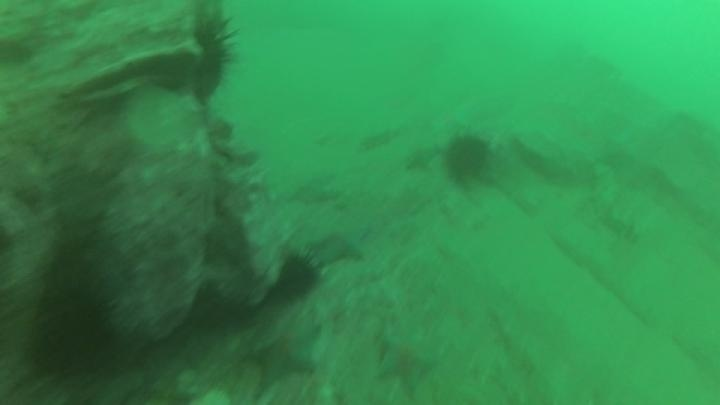echinus: (26, 283, 119, 381), (181, 14, 242, 106), (440, 132, 493, 186), (275, 250, 324, 302)
holothurian: (357, 123, 404, 153)
starfish: (248, 312, 326, 389), (374, 325, 440, 397), (305, 217, 374, 268), (402, 141, 442, 175)
